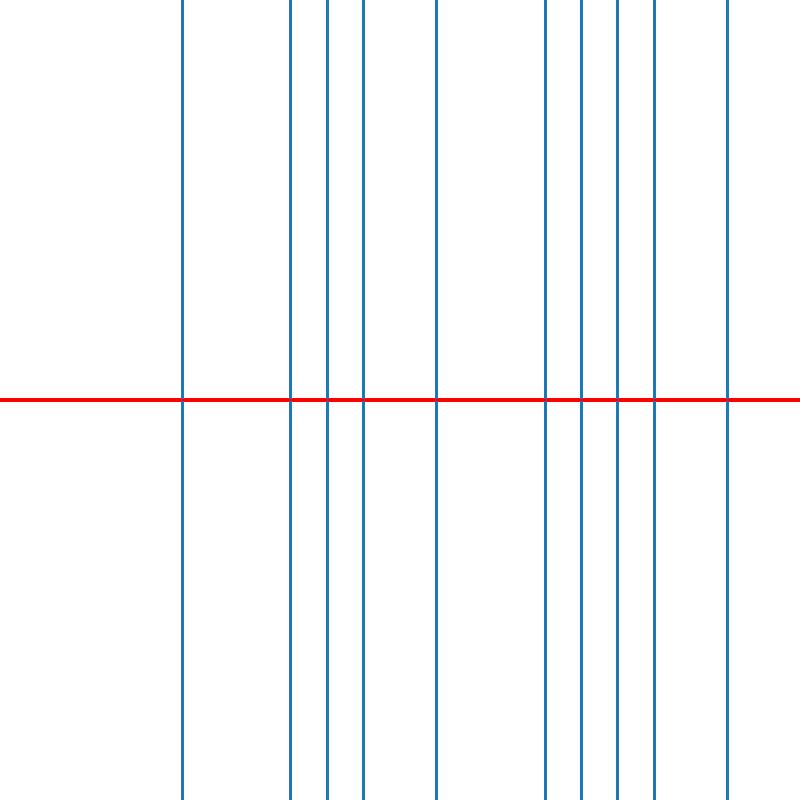root: (432, 396, 440, 404), (541, 396, 549, 404), (650, 396, 658, 404), (578, 396, 585, 404), (323, 396, 330, 404), (287, 396, 294, 404), (723, 396, 730, 404), (178, 396, 185, 404), (360, 396, 367, 404), (614, 396, 621, 404)
